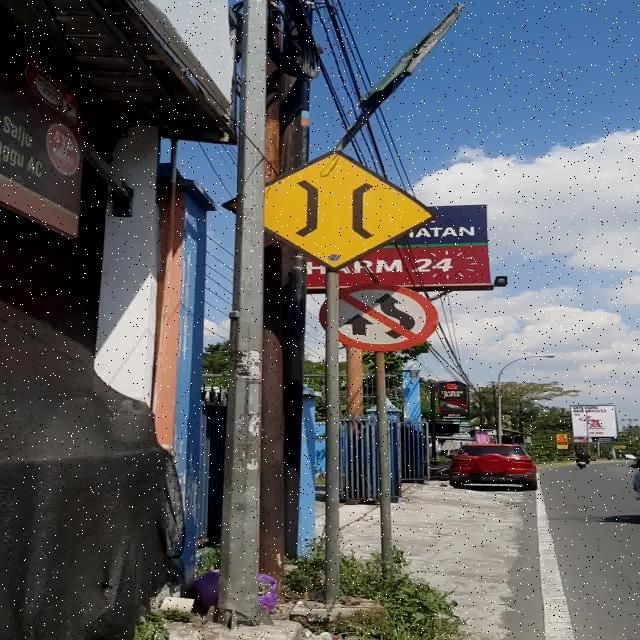Dilarang Mendahului: (343, 284, 438, 352)
